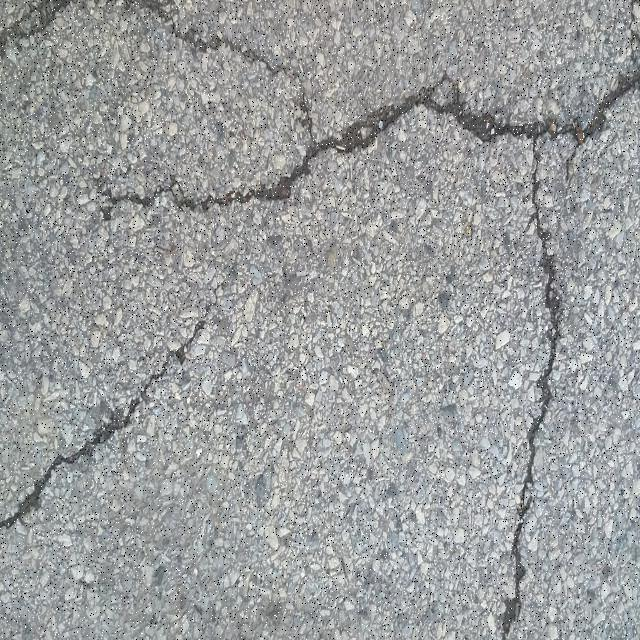Crack: (0, 0, 640, 640), (0, 282, 224, 533)
